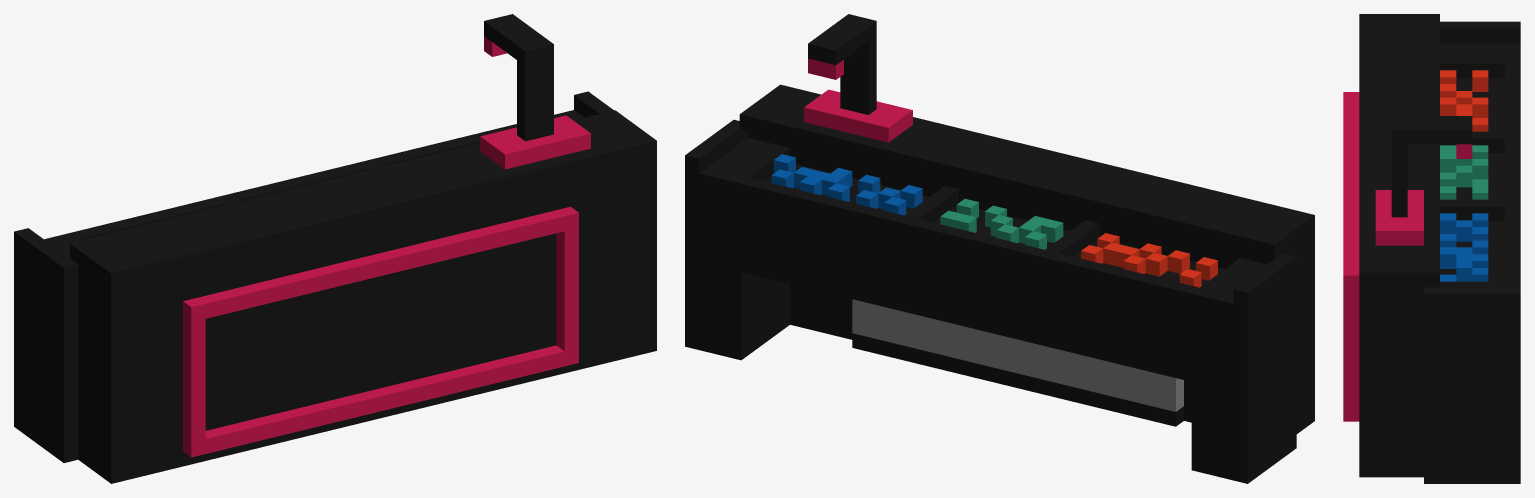
Rendered from drinktable.obj.
3 renders of one model, left to right at view 1: azimuth 30°, elevation 25°; view 2: azimuth 150°, elevation 25°; view 3: azimuth 270°, elevation 25°, orthographic. The views are drawn at different scales.
Parts seen in each view (by area): view 1: drinktable; view 2: drinktable; view 3: drinktable.
Part boxes in pixels (box(x1,y1,x2,y2)): drinktable: box(14, 14, 656, 483); drinktable: box(685, 14, 1314, 483); drinktable: box(1343, 14, 1520, 483).
Size of the model in its own units: 40 by 21 by 11.
Materials: 1 (1 with a texture image).
